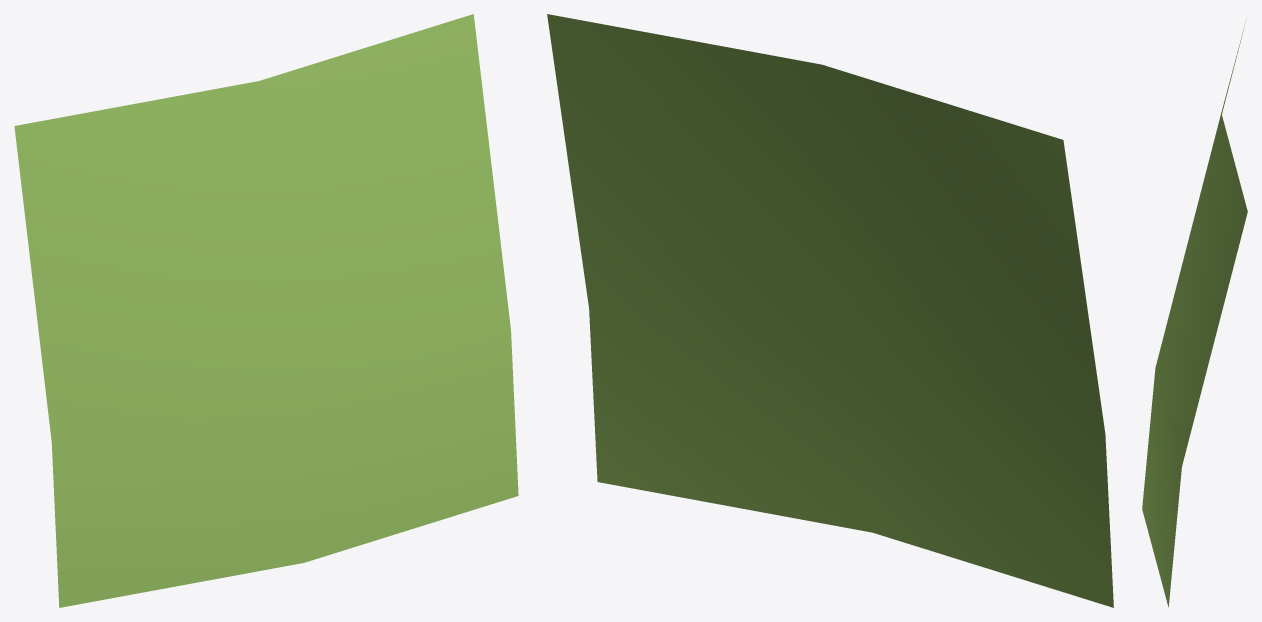
Rendered from GrassPlane_a_TwoS_04.fbx.
3 renders of one model, left to right at view 1: azimuth 30°, elevation 25°; view 2: azimuth 150°, elevation 25°; view 3: azimuth 270°, elevation 25°, orthographic. The views are drawn at different scales.
Parts seen in each view (by area): view 1: GrassPlane_a_TwoS_04; view 2: GrassPlane_a_TwoS_04; view 3: GrassPlane_a_TwoS_04.
Part boxes in pixels (bbox=[...]): GrassPlane_a_TwoS_04: bbox=[14, 14, 518, 607]; GrassPlane_a_TwoS_04: bbox=[547, 14, 1113, 607]; GrassPlane_a_TwoS_04: bbox=[1142, 20, 1247, 607].
Bounding box in the file's own units: 69.25 × 64.71 × 15.65.
